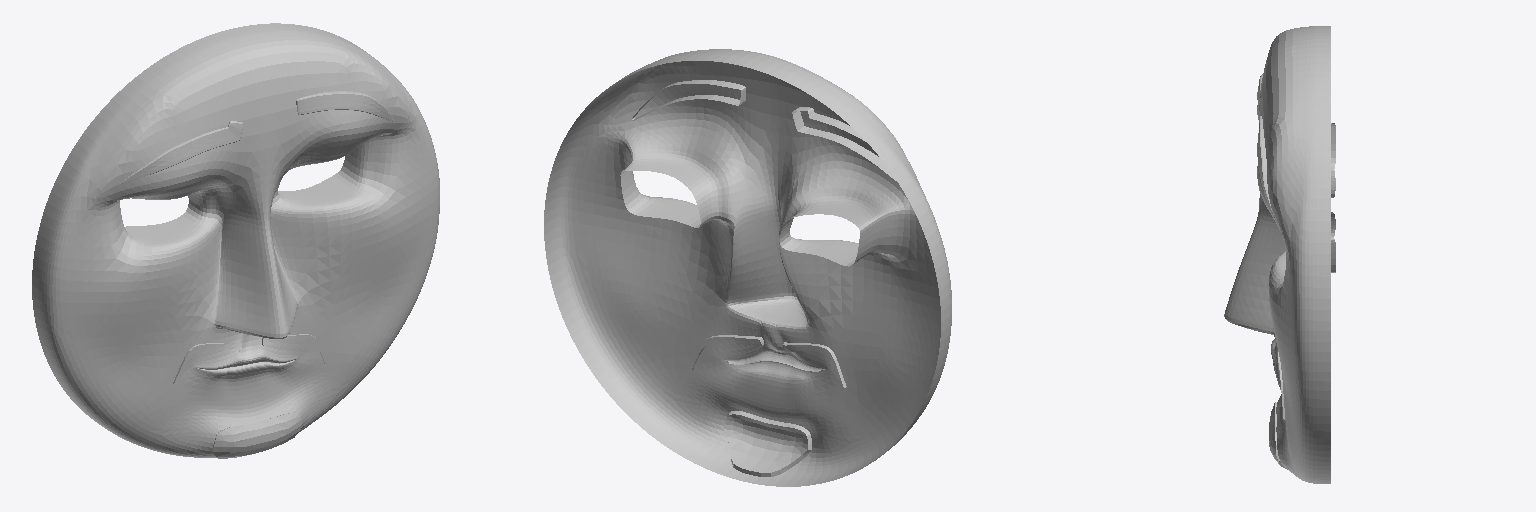
The model's file is Content.obj.
3 renders of one model, left to right at view 1: azimuth 30°, elevation 25°; view 2: azimuth 150°, elevation 25°; view 3: azimuth 270°, elevation 25°, orthographic.
Visible parts, largest first — view 1: Circle.069_Circle.087; view 2: Circle.069_Circle.087; view 3: Circle.069_Circle.087.
Boxes of the visible parts, <box> form: Circle.069_Circle.087: <box>32,23,439,458</box>; Circle.069_Circle.087: <box>544,49,951,486</box>; Circle.069_Circle.087: <box>1224,26,1335,483</box>.
Bounding box in the file's own units: 50.64 × 50.76 × 12.29.